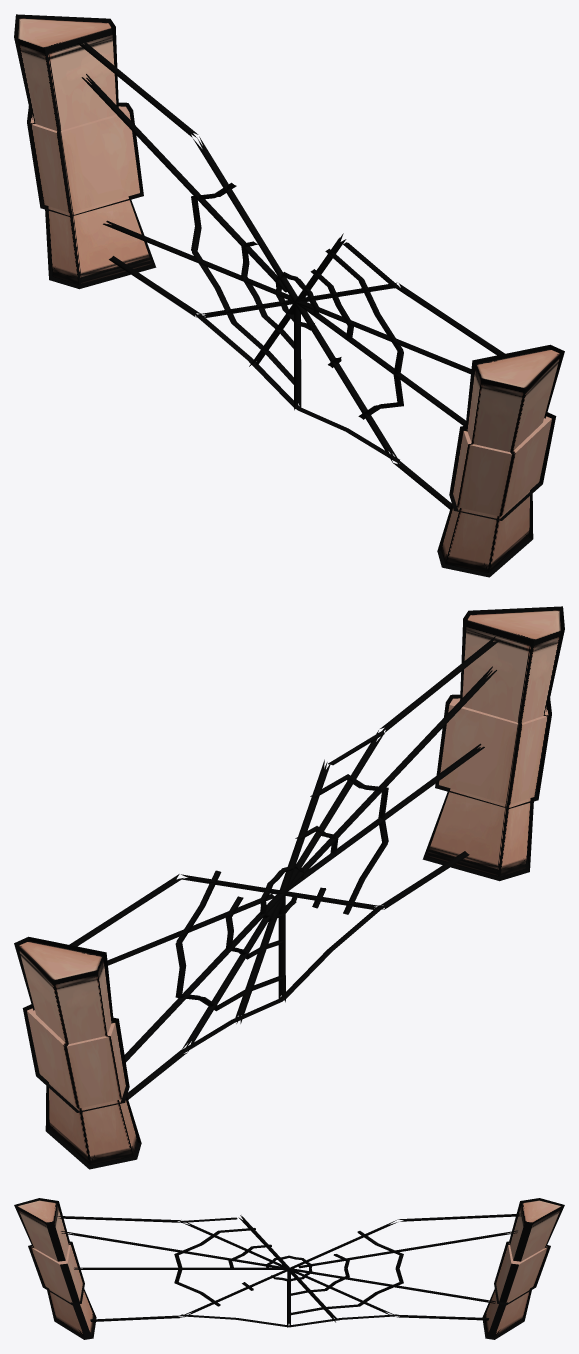
Rendered from bouncy_wall_state2.FBX.
3 views of the same model, one above another, from view 1: azimuth 30°, elevation 25°; view 2: azimuth 150°, elevation 25°; view 3: azimuth 270°, elevation 25° (orthographic). The views are drawn at different scales.
Parts seen in each view (by area): view 1: Torus008, Box104; view 2: Torus008, Box104; view 3: Torus008, Box104.
Boxes of the visible parts, x1,y1,x2,y2 form: Torus008: [17, 18, 560, 572]; Box104: [14, 14, 564, 577]; Torus008: [18, 610, 561, 1164]; Box104: [14, 606, 564, 1169]; Torus008: [16, 1200, 562, 1337]; Box104: [14, 1198, 564, 1339].
Size of the model in its own units: 0.2383 by 0.5085 by 2.17.
Materials: 2 (1 with a texture image).
